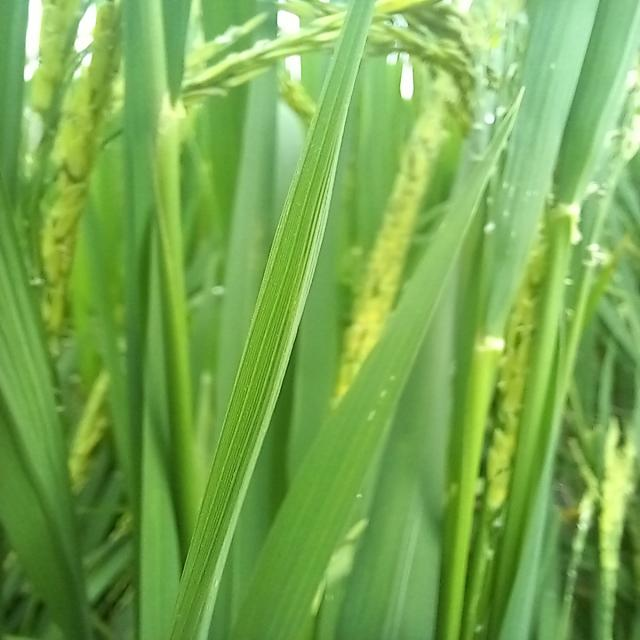HealthyLeaf: (167, 124, 345, 609), (296, 470, 342, 554)
